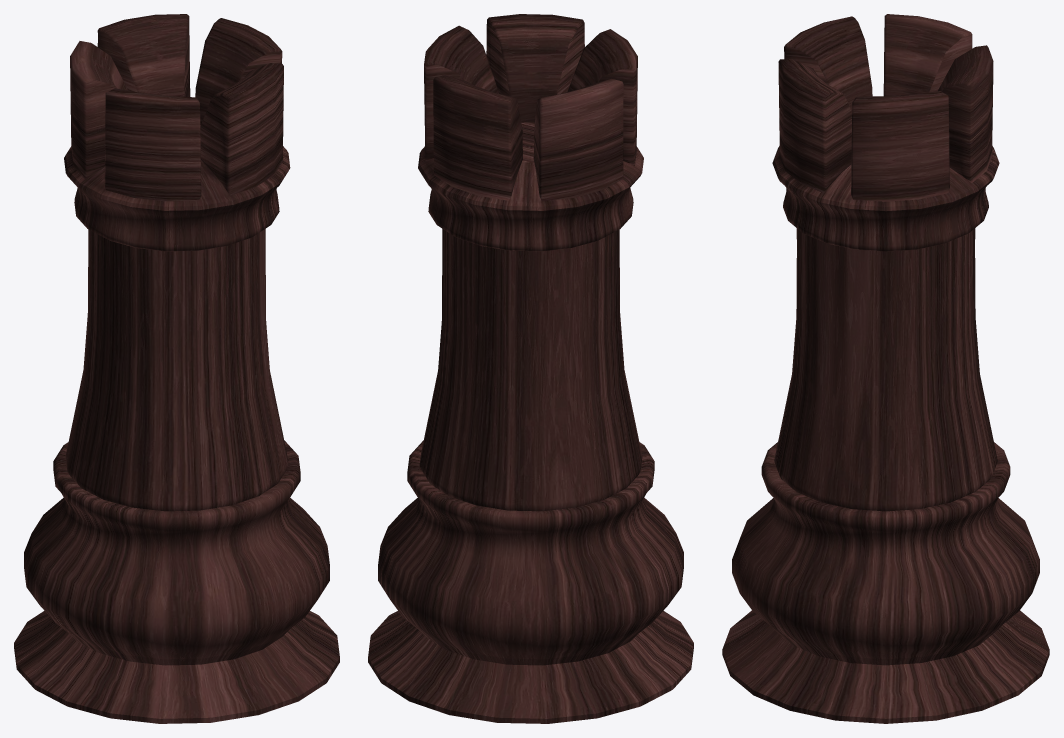
File: Black_Rook.dae
3 views of the same model, side by side, from view 1: azimuth 30°, elevation 25°; view 2: azimuth 150°, elevation 25°; view 3: azimuth 270°, elevation 25° (orthographic).
Visible parts, largest first — view 1: Rook; view 2: Rook; view 3: Rook.
Boxes of the visible parts, <box> form: Rook: <box>14,14,339,723</box>; Rook: <box>368,14,693,723</box>; Rook: <box>722,14,1049,723</box>.
Size of the model in its own units: 1.62 by 3.26 by 1.62.
Materials: 1 (1 with a texture image).
